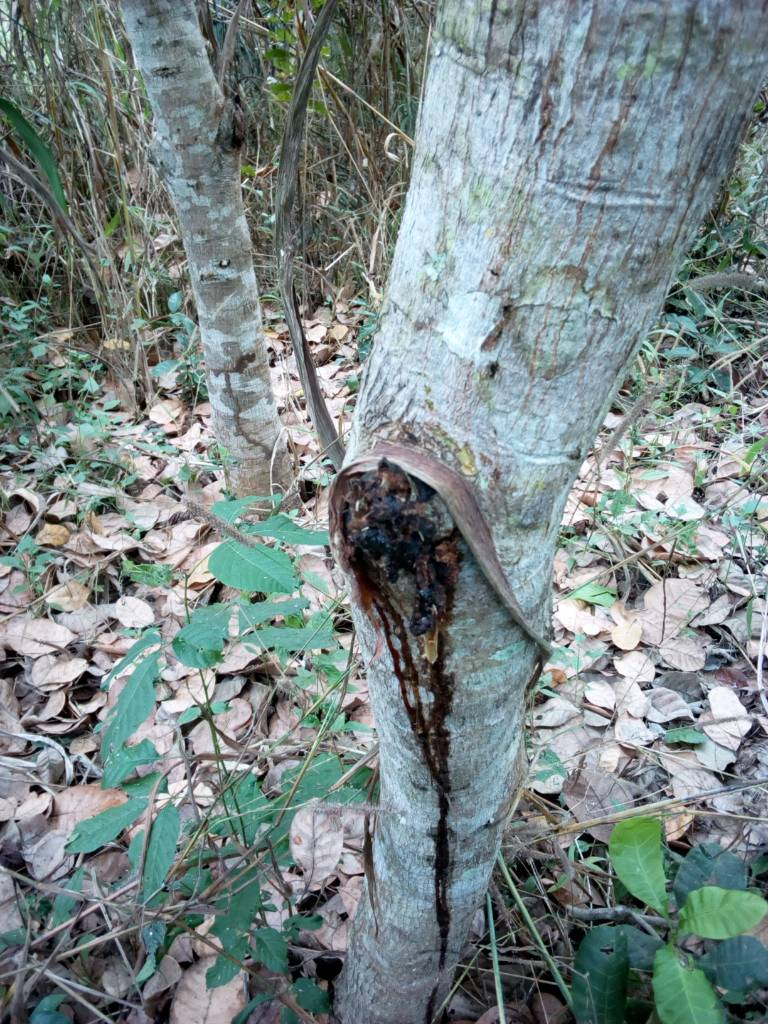Mecocorynus longiceps: (316, 452, 477, 650)
